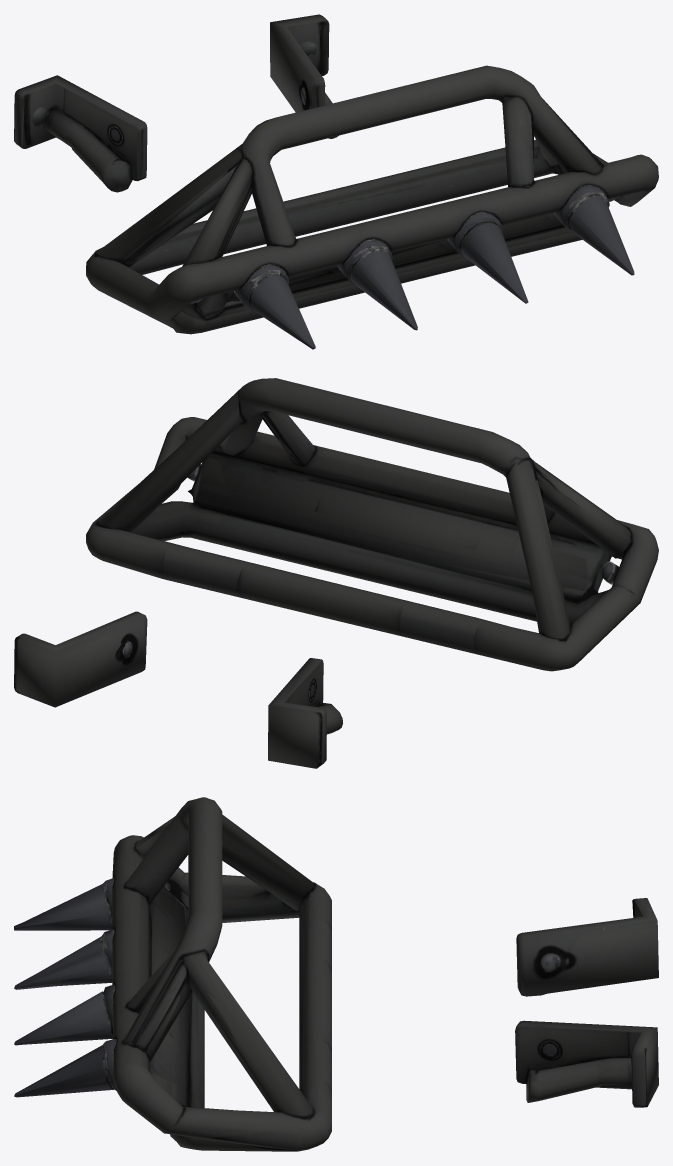
Rendered from kaeferkraft-spike_bumper.glb.
3 renders of one model, top to bottom at view 1: azimuth 30°, elevation 25°; view 2: azimuth 150°, elevation 25°; view 3: azimuth 270°, elevation 25°, orthographic. The views are drawn at different scales.
Parts seen in each view (by area): view 1: tripo_node_c02e5cab-488f-4521-8277-7de1b567fa54; view 2: tripo_node_c02e5cab-488f-4521-8277-7de1b567fa54; view 3: tripo_node_c02e5cab-488f-4521-8277-7de1b567fa54.
Part boxes in pixels (x1,y1,x2,y2): tripo_node_c02e5cab-488f-4521-8277-7de1b567fa54: (14,14,658,349); tripo_node_c02e5cab-488f-4521-8277-7de1b567fa54: (14,378,658,768); tripo_node_c02e5cab-488f-4521-8277-7de1b567fa54: (14,797,658,1151).
Size of the model in its own units: 1.11 by 0.4 by 1.21.
1 material, 1 textured.
